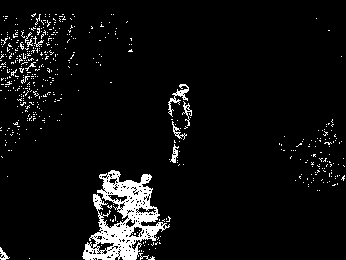person: (163, 80, 191, 170)
